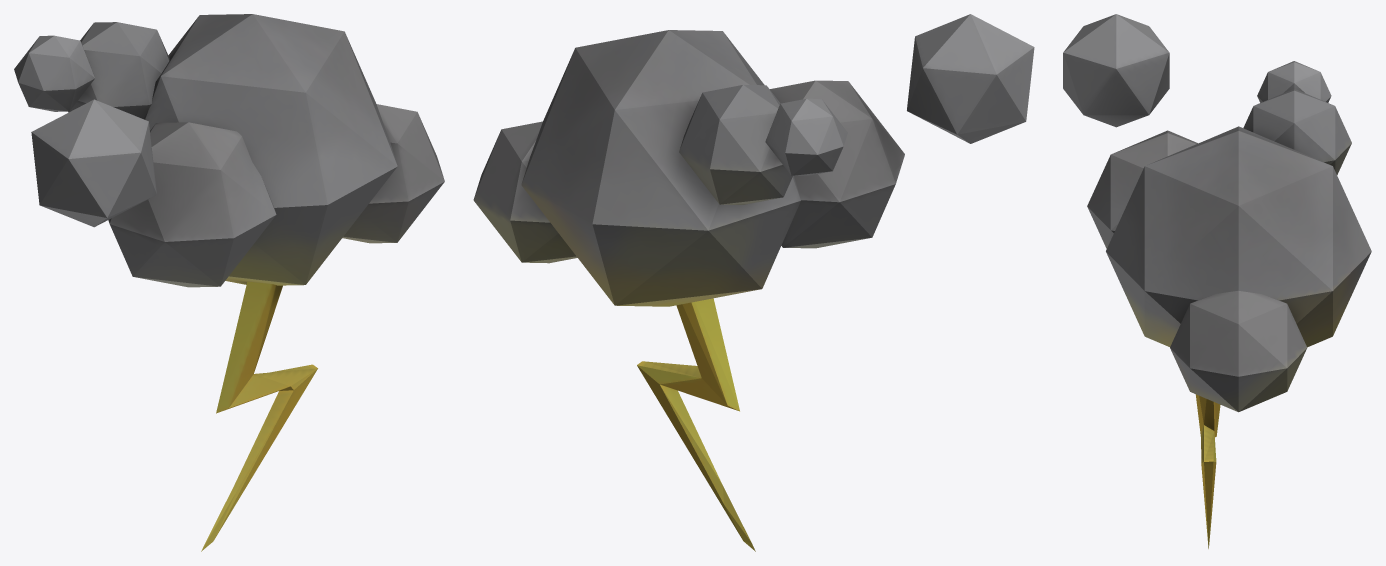
Rendered from Cloud_16.fbx.
The picture shows the model from 3 angles, left to right: view 1: azimuth 30°, elevation 25°; view 2: azimuth 150°, elevation 25°; view 3: azimuth 270°, elevation 25°; orthographic projection. The views are drawn at different scales.
Parts seen in each view (by area): view 1: Cloud_16; view 2: Cloud_16; view 3: Cloud_16.
Part boxes in pixels (<box>): Cloud_16: <box>14,14,444,551</box>; Cloud_16: <box>473,14,1034,551</box>; Cloud_16: <box>1063,14,1371,548</box>.
Size of the model in its own units: 80.27 by 87.03 by 51.89.
